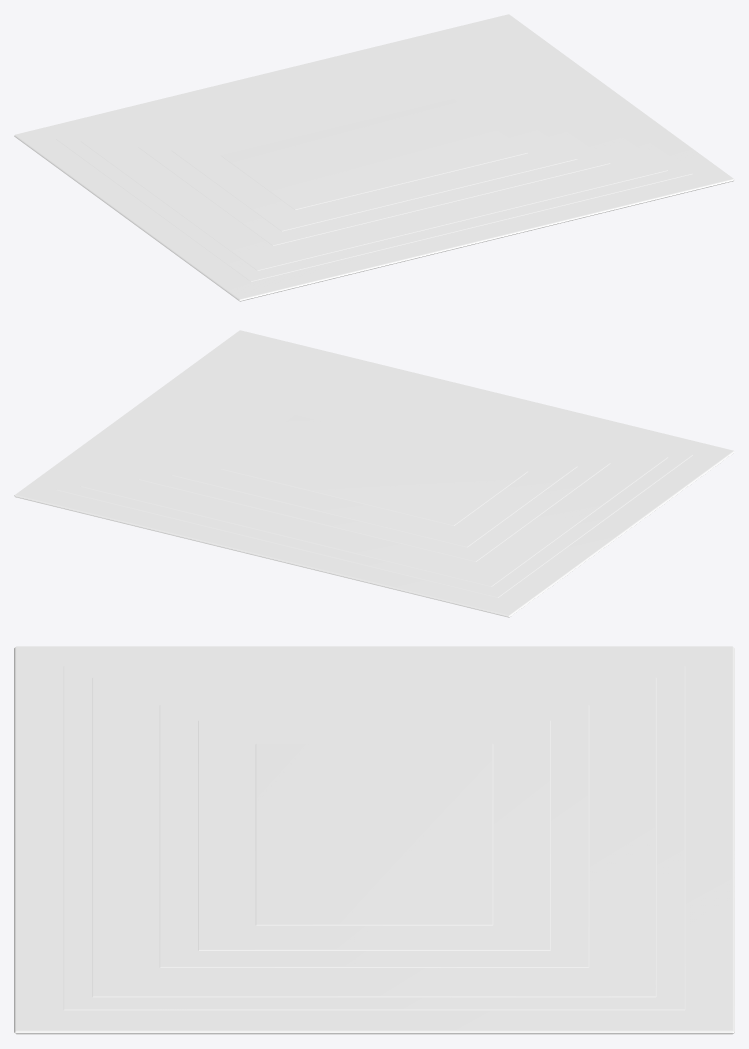
The model's file is rug.glb.
3 renders of one model, top to bottom at view 1: azimuth 30°, elevation 25°; view 2: azimuth 150°, elevation 25°; view 3: azimuth 270°, elevation 25°, orthographic. The views are drawn at different scales.
Parts seen in each view (by area): view 1: Rug; view 2: Rug; view 3: Rug.
Boxes of the visible parts, bbox=[...] form: Rug: bbox=[14, 14, 734, 301]; Rug: bbox=[14, 330, 734, 617]; Rug: bbox=[14, 646, 734, 1034].
Size of the model in its own units: 1.9 by 0.02 by 1.5.
1 material, 1 textured.
